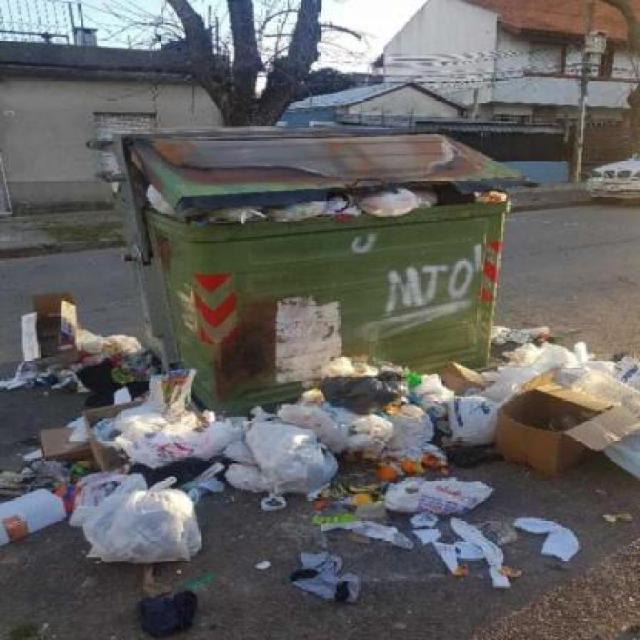garbage: (111, 396, 620, 632), (198, 409, 554, 609), (3, 429, 202, 640), (326, 360, 640, 478), (11, 283, 130, 438), (123, 185, 478, 228), (494, 322, 608, 406)
